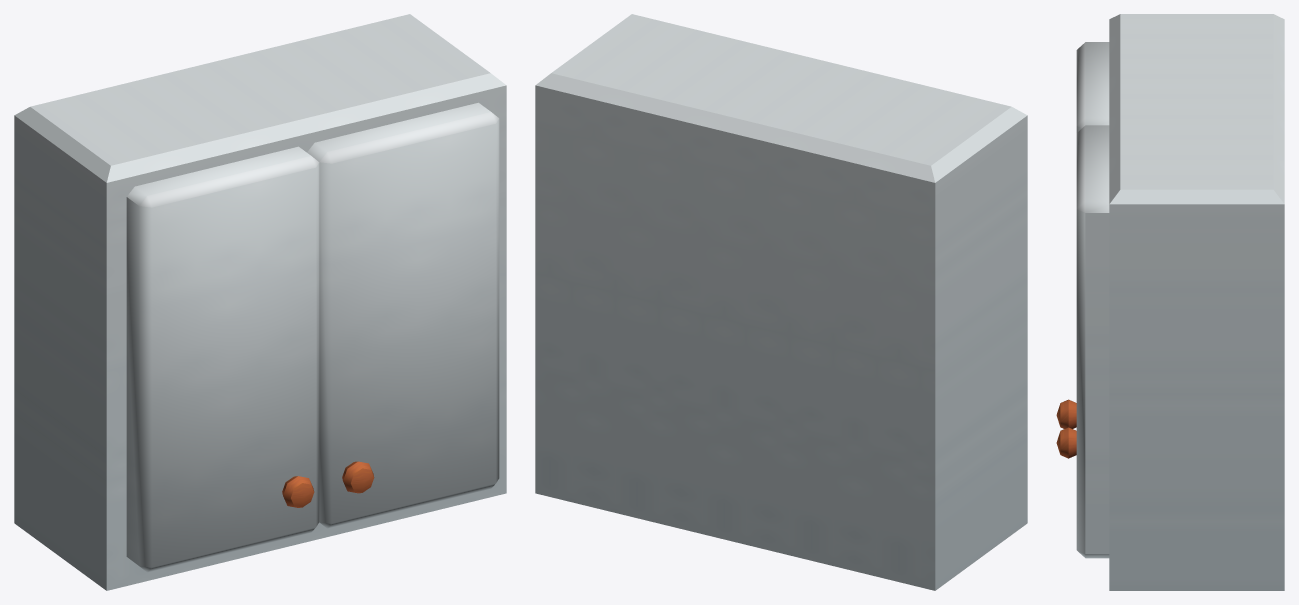
File: kitchencabinet.gltf
The picture shows the model from 3 angles, left to right: view 1: azimuth 30°, elevation 25°; view 2: azimuth 150°, elevation 25°; view 3: azimuth 270°, elevation 25°; orthographic projection. The views are drawn at different scales.
Parts seen in each view (by area): view 1: kitchencabinet; view 2: kitchencabinet; view 3: kitchencabinet.
Part boxes in pixels (x1,y1,x2,y2): kitchencabinet: (14,14,506,590); kitchencabinet: (535,14,1027,590); kitchencabinet: (1056,14,1284,590).
Bounding box in the file's own units: 2 × 2 × 1.04.
Materials: 1 (1 with a texture image).
